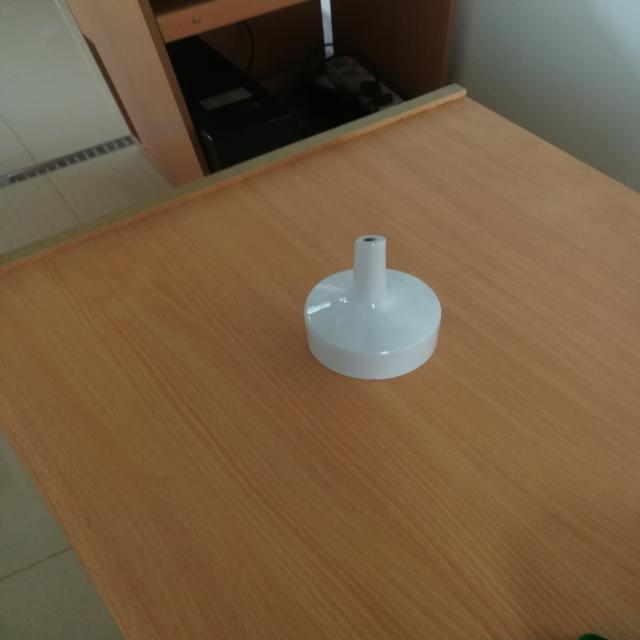Buchner_Funnel: (263, 194, 473, 412)
